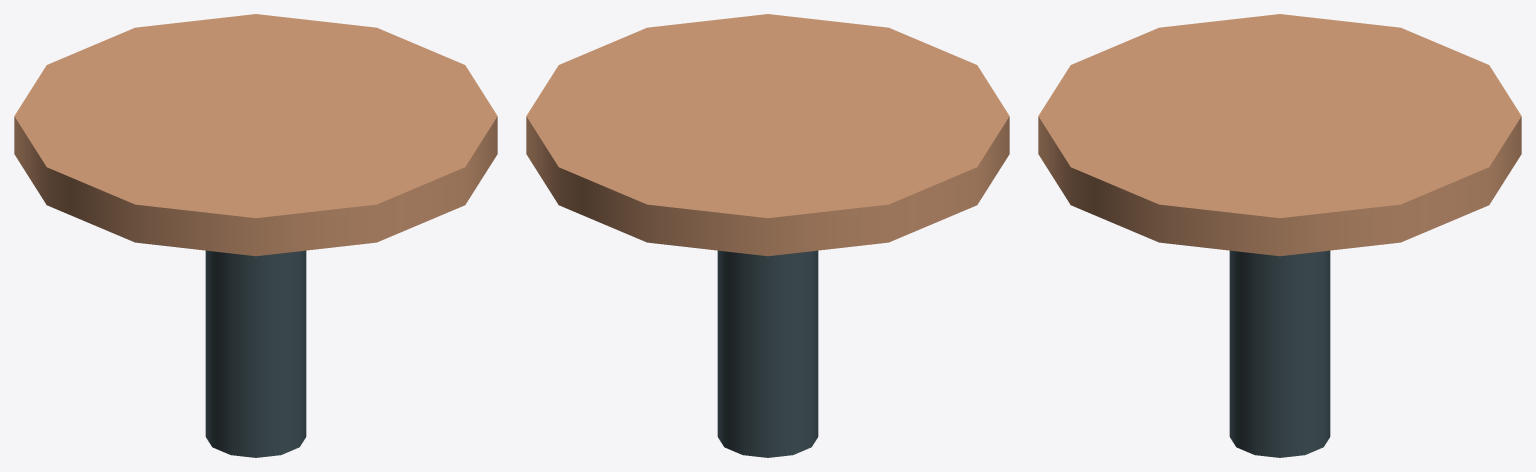
File: Table.fbx
The picture shows the model from 3 angles, left to right: view 1: azimuth 30°, elevation 25°; view 2: azimuth 150°, elevation 25°; view 3: azimuth 270°, elevation 25°; orthographic projection.
Parts seen in each view (by area): view 1: Table; view 2: Table; view 3: Table.
Boxes of the visible parts, x1=… form: Table: x1=14, y1=14, x2=497, y2=457; Table: x1=526, y1=14, x2=1009, y2=457; Table: x1=1038, y1=14, x2=1521, y2=457.
Size of the model in its own units: 145 by 106 by 145.
1 material, 1 textured.
